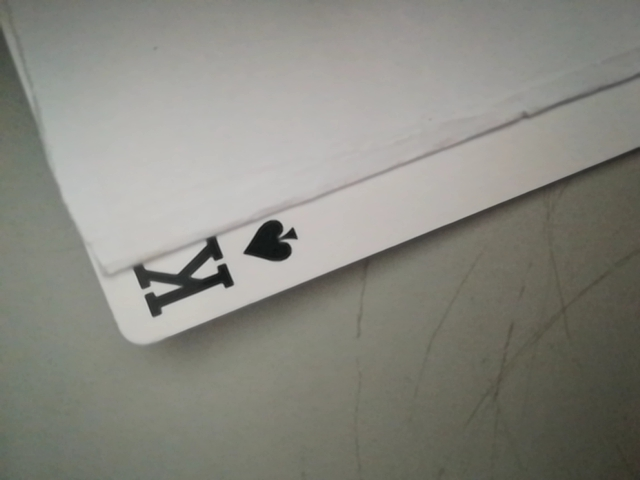ht k: (116, 209, 308, 330)
